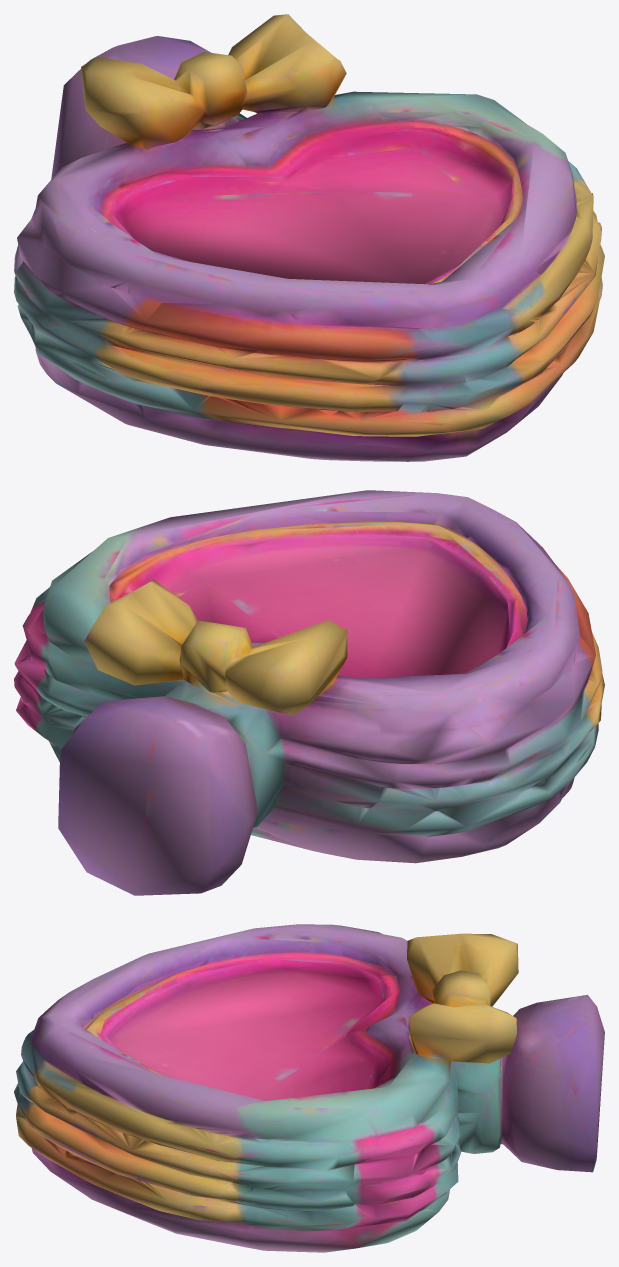
The picture shows the model from 3 angles, top to bottom: view 1: azimuth 30°, elevation 25°; view 2: azimuth 150°, elevation 25°; view 3: azimuth 270°, elevation 25°; orthographic projection. The views are drawn at different scales.
Visible parts, largest first — view 1: material; view 2: material; view 3: material.
Boxes of the visible parts, x1,y1,x2,y2 form: material: (14, 14, 604, 461); material: (14, 490, 604, 895); material: (14, 924, 604, 1252).
Size of the model in its own units: 0.8589 by 0.3609 by 1.
1 material, 1 textured.
